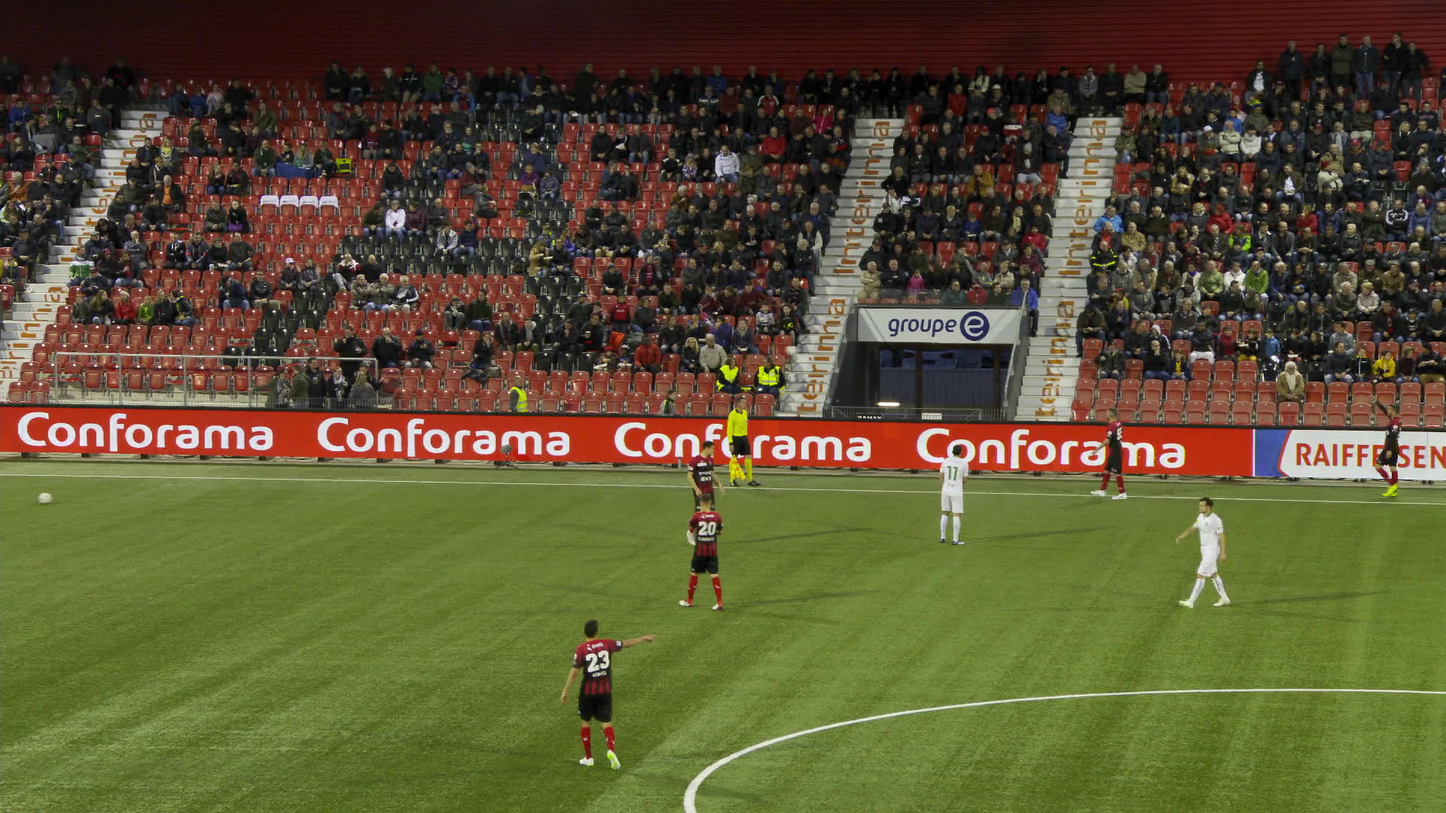ball: (38, 492, 52, 503), (786, 346, 797, 355)
player: (560, 620, 656, 770), (1176, 496, 1229, 607), (679, 493, 722, 609), (686, 441, 723, 546), (1090, 408, 1127, 500), (1370, 394, 1402, 496), (938, 445, 967, 544)
referee: (727, 396, 761, 486)
